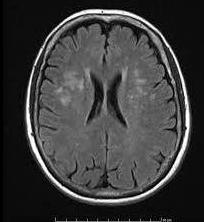Normal_Brain: (2, 1, 204, 222)
